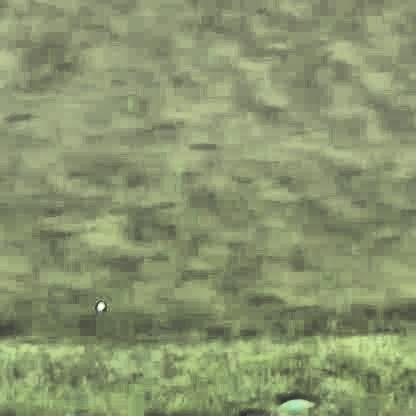golfball: (93, 301, 104, 311)
